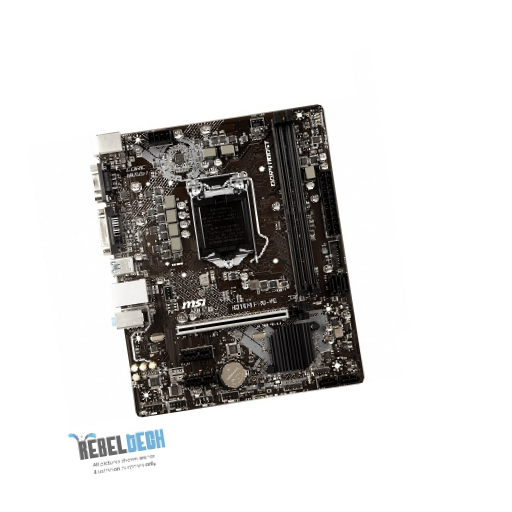CPU: (191, 172, 257, 269)
GPU: (176, 301, 311, 337)
MOTHERBOARD: (99, 104, 364, 416)
RAM: (272, 110, 321, 296)
